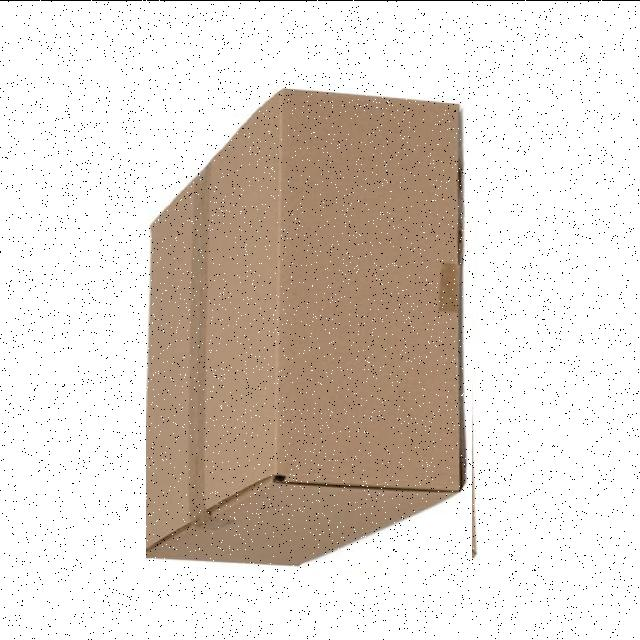normal: (146, 86, 472, 569)
